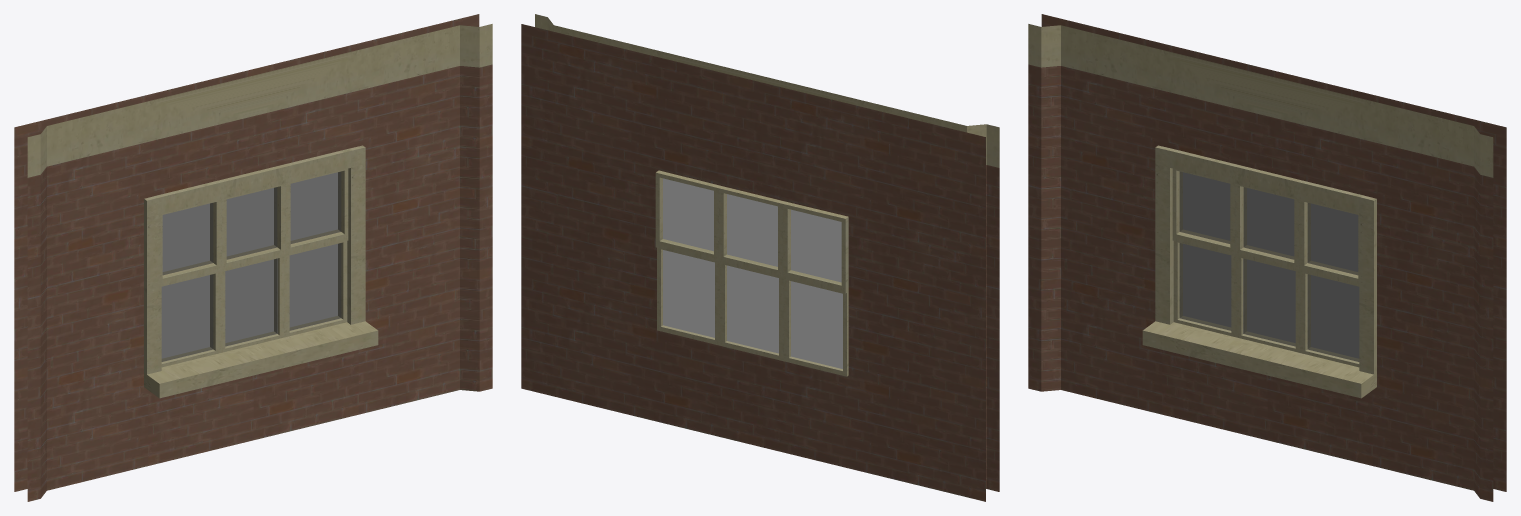
File: Brick_Inset_Window.glb
3 renders of one model, left to right at view 1: azimuth 30°, elevation 25°; view 2: azimuth 150°, elevation 25°; view 3: azimuth 330°, elevation 25°, orthographic.
Parts seen in each view (by area): view 1: Brick_Inset_Window; view 2: Brick_Inset_Window; view 3: Brick_Inset_Window.
Part boxes in pixels (box(x1,y1,x2,y2)): Brick_Inset_Window: box(14, 14, 492, 501); Brick_Inset_Window: box(521, 14, 999, 501); Brick_Inset_Window: box(1028, 14, 1506, 501).
Size of the model in its own units: 4 by 3 by 0.3743.
4 materials, 2 textured.
